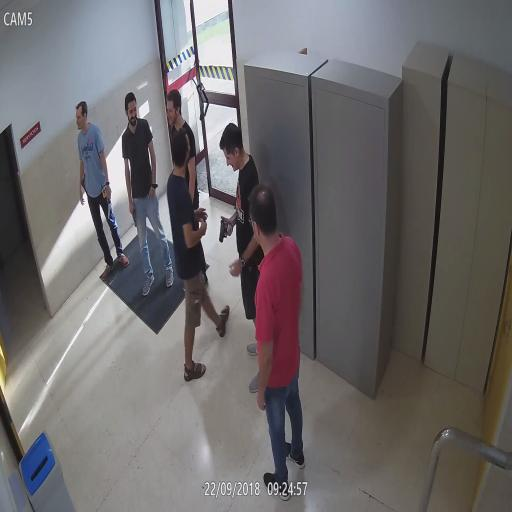Handgun: (216, 218, 236, 244), (127, 202, 140, 226), (196, 208, 206, 237), (80, 169, 87, 195)
